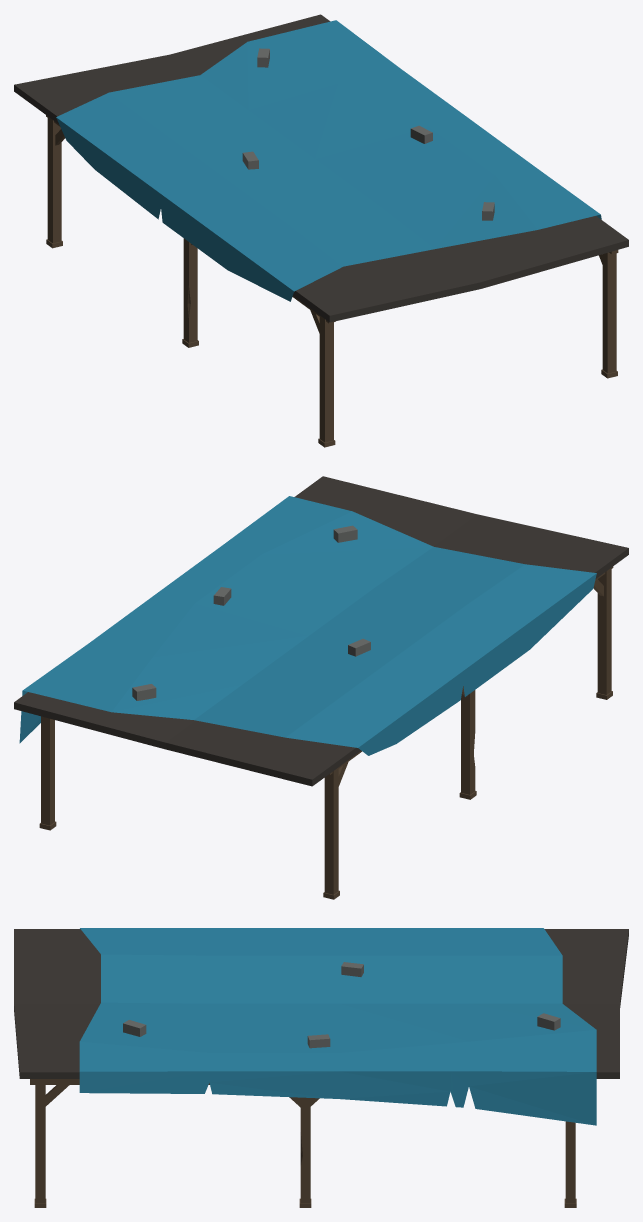
Rendered from SM_woodenShack_01.gltf.
The picture shows the model from 3 angles, top to bottom: view 1: azimuth 30°, elevation 25°; view 2: azimuth 150°, elevation 25°; view 3: azimuth 270°, elevation 25°; orthographic projection. The views are drawn at different scales.
Visible parts, largest first — view 1: SM_woodenShack_01; view 2: SM_woodenShack_01; view 3: SM_woodenShack_01.
Boxes of the visible parts, box(x1,y1,x2,y2) form: SM_woodenShack_01: box(14, 14, 628, 447); SM_woodenShack_01: box(14, 476, 628, 899); SM_woodenShack_01: box(14, 928, 628, 1207).
Size of the model in its own units: 6.58 by 3.07 by 11.6.
Materials: 1 (1 with a texture image).
